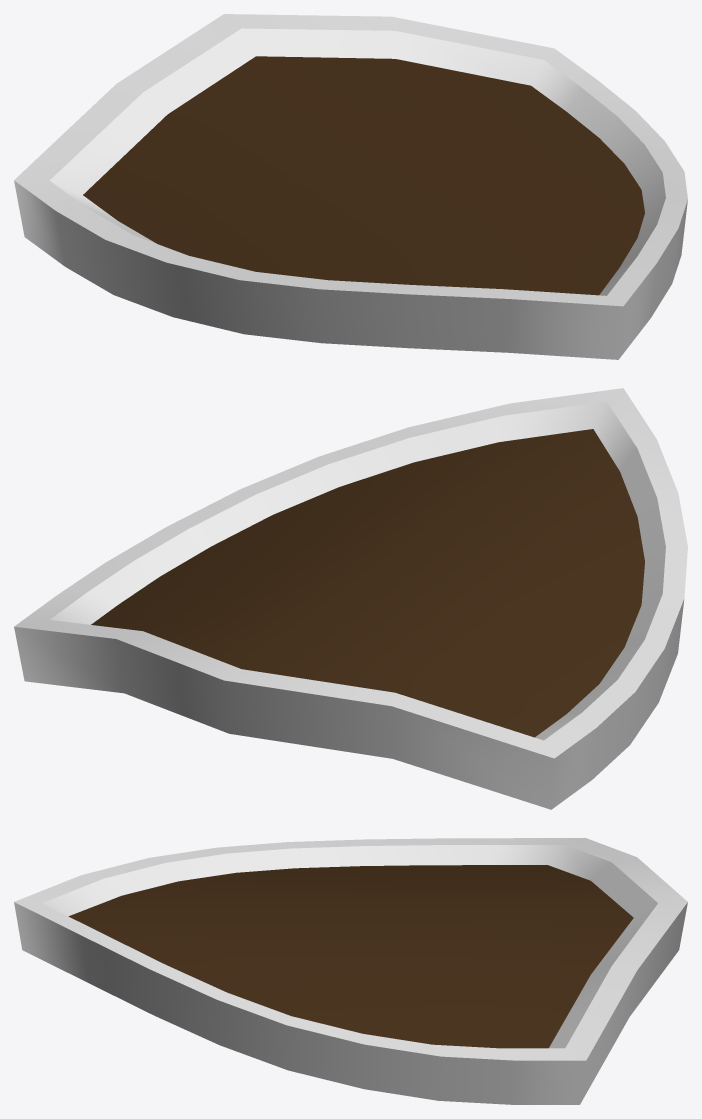
File: knight_shield.fbx
The picture shows the model from 3 angles, top to bottom: view 1: azimuth 30°, elevation 25°; view 2: azimuth 150°, elevation 25°; view 3: azimuth 270°, elevation 25°; orthographic projection. The views are drawn at different scales.
Parts seen in each view (by area): view 1: knight_shield; view 2: knight_shield; view 3: knight_shield.
Part boxes in pixels (bbox=[...]): knight_shield: bbox=[14, 14, 687, 359]; knight_shield: bbox=[14, 388, 687, 809]; knight_shield: bbox=[14, 838, 687, 1104].
Bounding box in the file's own units: 195 × 38.58 × 249.
